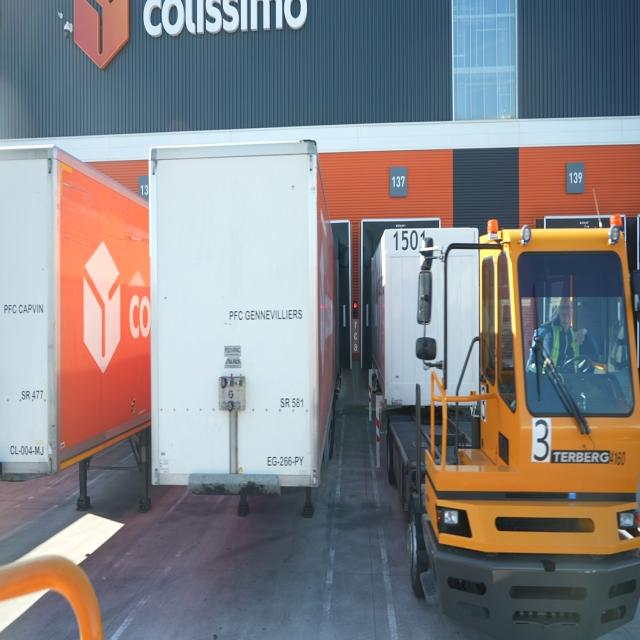Code: (390, 224, 430, 259)
